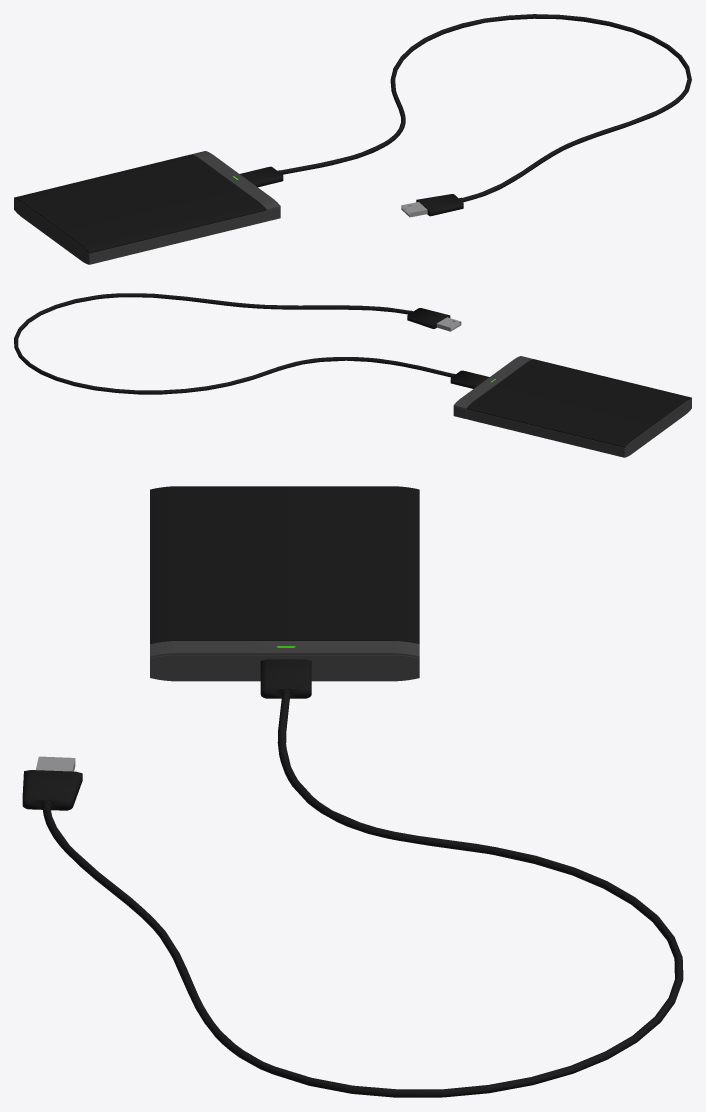
Rendered from Hard disk.FBX.
3 views of the same model, one above another, from view 1: azimuth 30°, elevation 25°; view 2: azimuth 150°, elevation 25°; view 3: azimuth 270°, elevation 25° (orthographic). The views are drawn at different scales.
Visible parts, largest first — view 1: hard disk; view 2: hard disk; view 3: hard disk.
Part boxes in pixels (<box>): hard disk: <box>14,14,691,264</box>; hard disk: <box>14,293,691,457</box>; hard disk: <box>22,486,683,1097</box>.
Bounding box in the file's own units: 45.08 × 1.34 × 21.79.
Materials: 2 (1 with a texture image).
